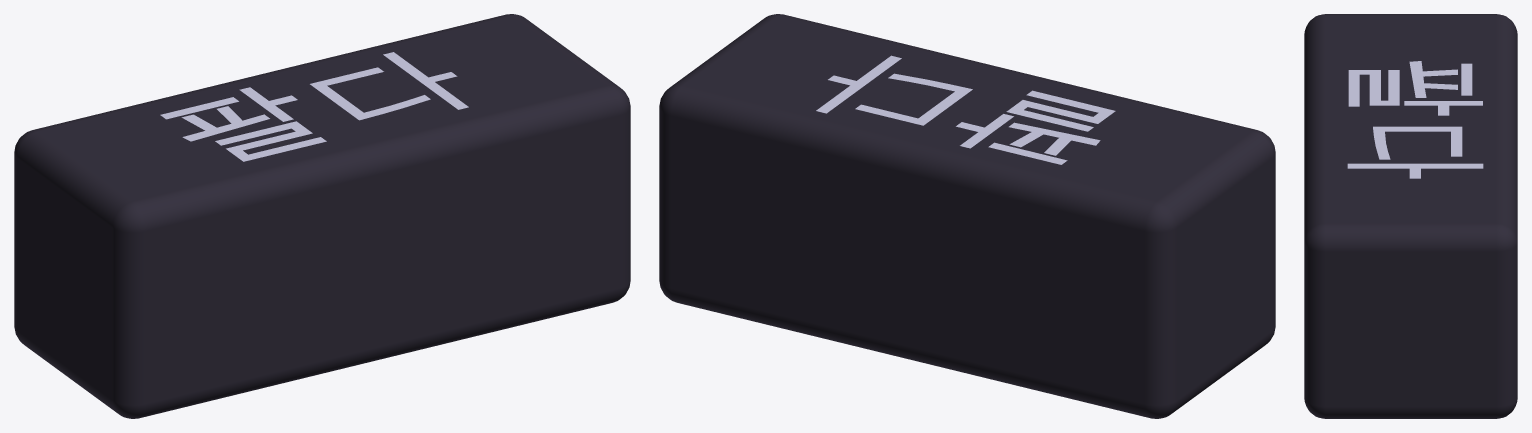
Rendered from sell.glb.
3 renders of one model, left to right at view 1: azimuth 30°, elevation 25°; view 2: azimuth 150°, elevation 25°; view 3: azimuth 270°, elevation 25°, orthographic. The views are drawn at different scales.
Visible parts, largest first — view 1: Cut, Extrude; view 2: Cut, Extrude; view 3: Cut, Extrude.
Part boxes in pixels (box(x1,y1,x2,y2)): Cut: box(14, 14, 630, 418); Extrude: box(160, 52, 468, 161); Cut: box(659, 14, 1275, 418); Extrude: box(816, 55, 1115, 164); Cut: box(1304, 14, 1517, 418); Extrude: box(1347, 61, 1483, 178).
Bounding box in the file's own units: 5 × 2 × 2.
